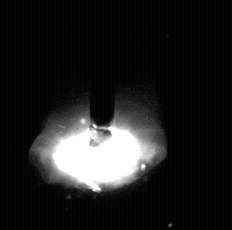arame: (91, 0, 115, 134)
poca: (28, 0, 169, 230)
